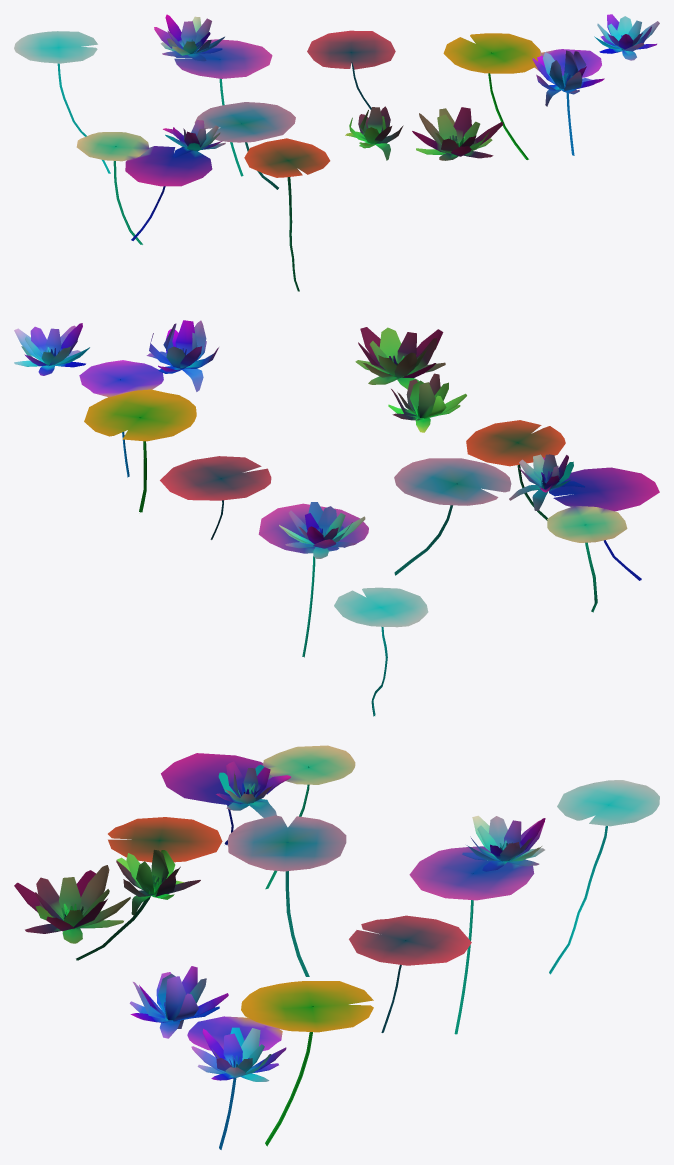
The model's file is Rembrandt_Water_Lily_uc2kajgia_High_uc2kajgia_VarE_LOD0.fbx.
3 renders of one model, top to bottom at view 1: azimuth 30°, elevation 25°; view 2: azimuth 150°, elevation 25°; view 3: azimuth 270°, elevation 25°, orthographic. The views are drawn at different scales.
Visible parts, largest first — view 1: _a5e4_VarE_LOD0; view 2: _a5e4_VarE_LOD0; view 3: _a5e4_VarE_LOD0.
Part boxes in pixels (<box>): _a5e4_VarE_LOD0: <box>14,14,659,291</box>; _a5e4_VarE_LOD0: <box>14,320,659,716</box>; _a5e4_VarE_LOD0: <box>14,745,659,1149</box>.
Size of the model in its own units: 167 by 44.54 by 132.
